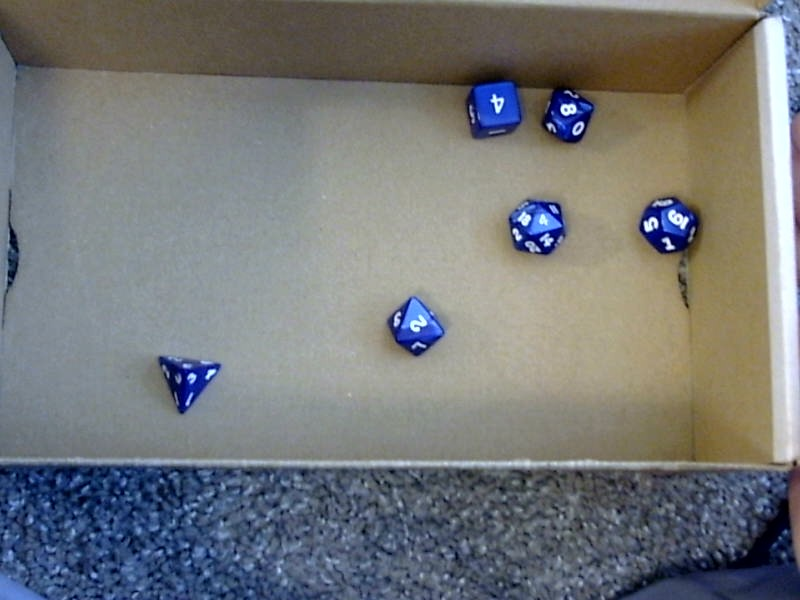d10 8: (542, 81, 594, 144)
d12 6: (633, 191, 702, 255)
d20 4: (505, 193, 568, 261)
d4 3: (150, 347, 221, 416)
d6 4: (457, 79, 523, 139)
d8 2: (381, 293, 446, 358)
